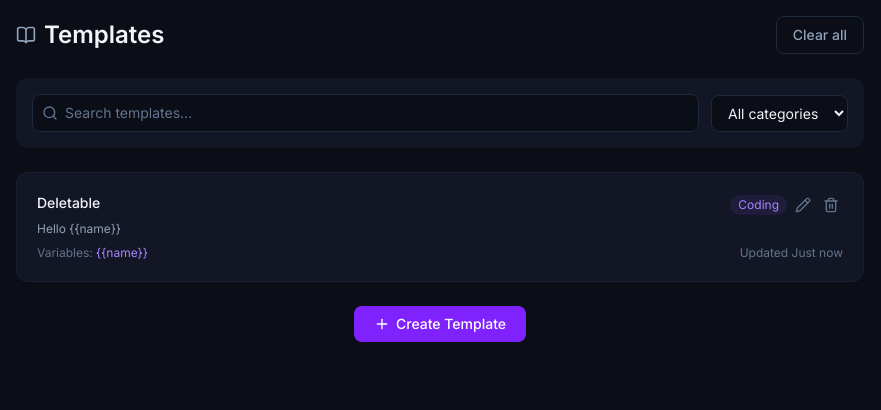
Test: TemplateLibraryPage › delete template with confirmation (TC-L-05)
Note: Click delete button
Click the button named "Delete template: Deletable" at (831, 205), box [819,193,843,217]
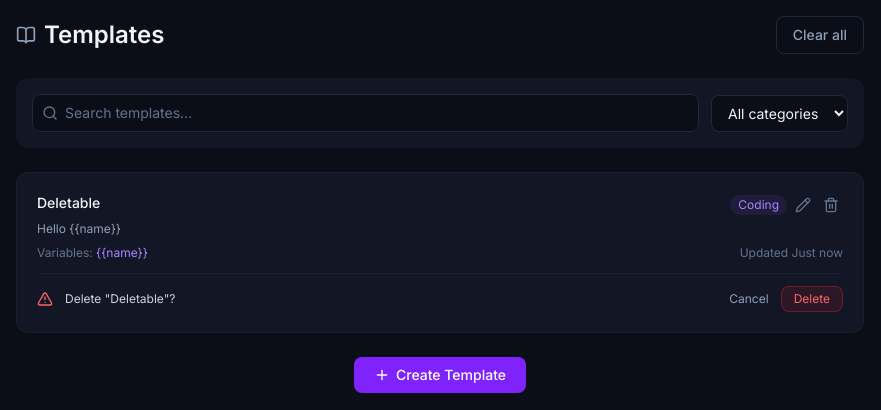
Expected: the text "Delete \"Deletable\"?" is shown, [65,291,175,306]
Note: Confirm deletion
Click the button "Delete" at (812, 299), box [781,286,843,312]
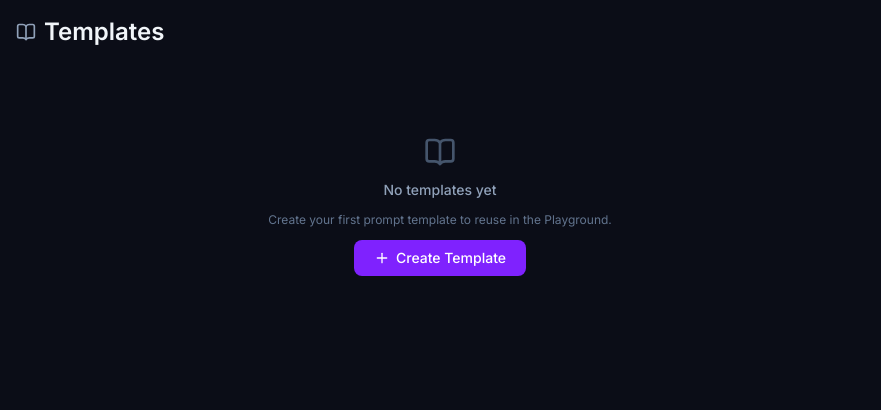
Expected: the text "Deletable" is gone
